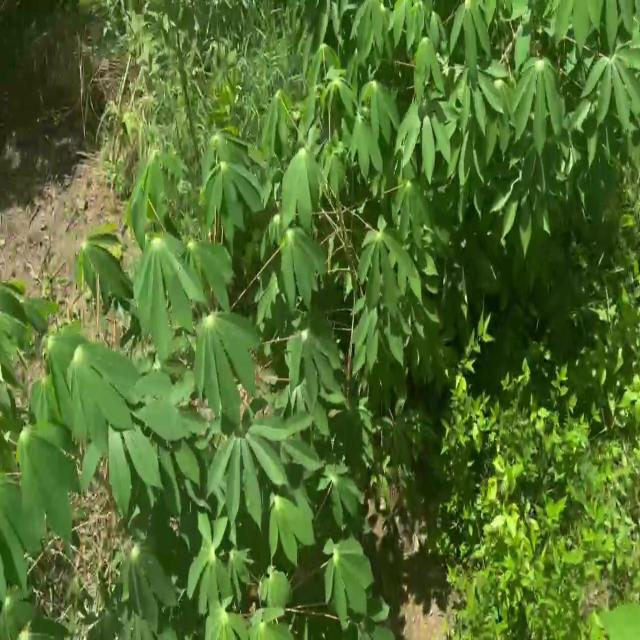Maleza: (436, 363, 624, 563), (448, 526, 600, 640), (558, 260, 640, 447)
